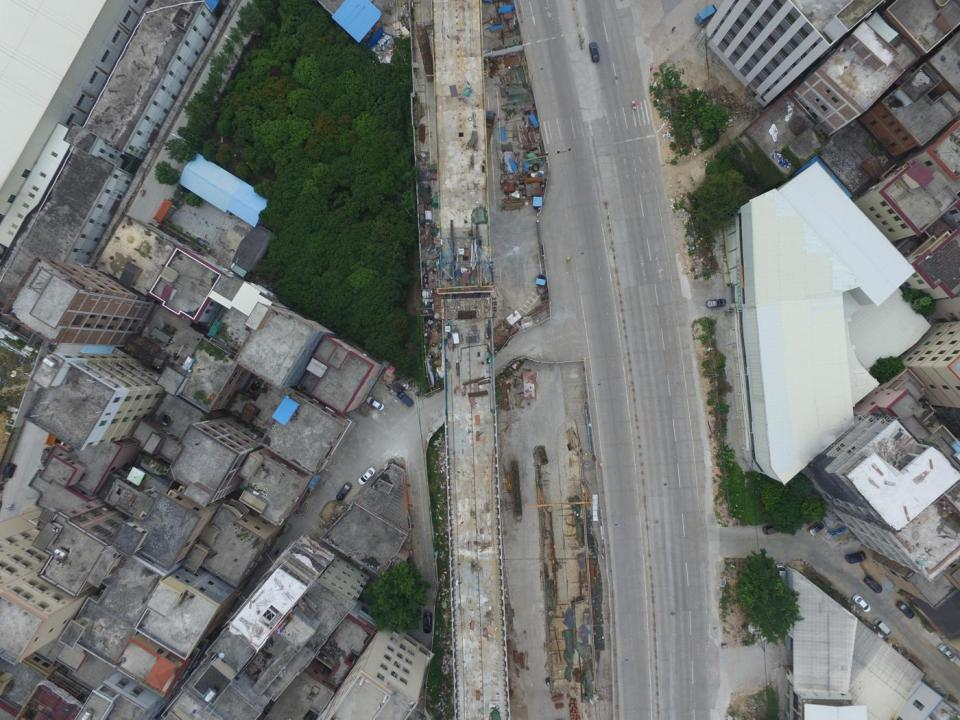car: (852, 593, 872, 613), (863, 575, 884, 594), (896, 601, 916, 620), (334, 482, 352, 502), (358, 466, 376, 485), (364, 395, 384, 411), (396, 390, 414, 407), (936, 642, 954, 659), (845, 550, 866, 564), (422, 610, 433, 635), (588, 41, 600, 63), (808, 520, 825, 535), (705, 298, 727, 309)
truck: (694, 3, 720, 26)
van: (873, 617, 891, 636), (762, 523, 786, 535)
